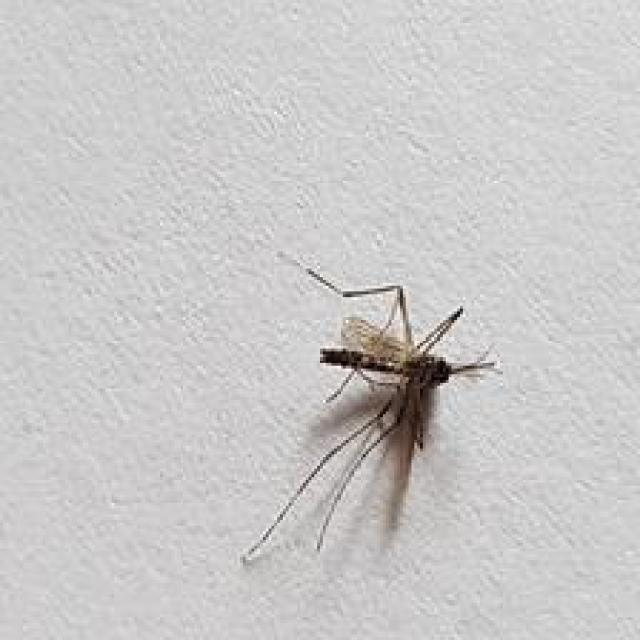Aedes albopictus: (238, 264, 498, 567)
